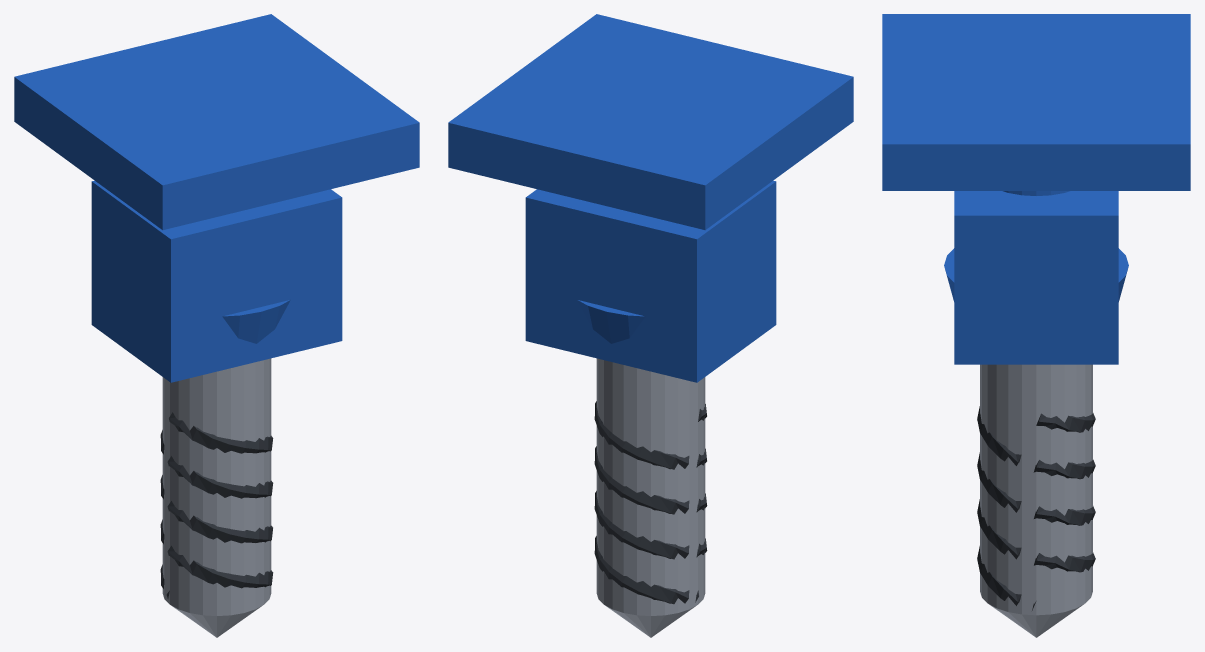
The model's file is drill_short.dae.
3 views of the same model, side by side, from view 1: azimuth 30°, elevation 25°; view 2: azimuth 150°, elevation 25°; view 3: azimuth 270°, elevation 25° (orthographic). The views are drawn at different scales.
Visible parts, largest first — view 1: drill_short; view 2: drill_short; view 3: drill_short.
Boxes of the visible parts, bbox=[...] form: drill_short: bbox=[14, 14, 419, 637]; drill_short: bbox=[448, 14, 853, 637]; drill_short: bbox=[882, 14, 1190, 637].
Size of the model in its own units: 0.3 by 0.3 by 0.6.
